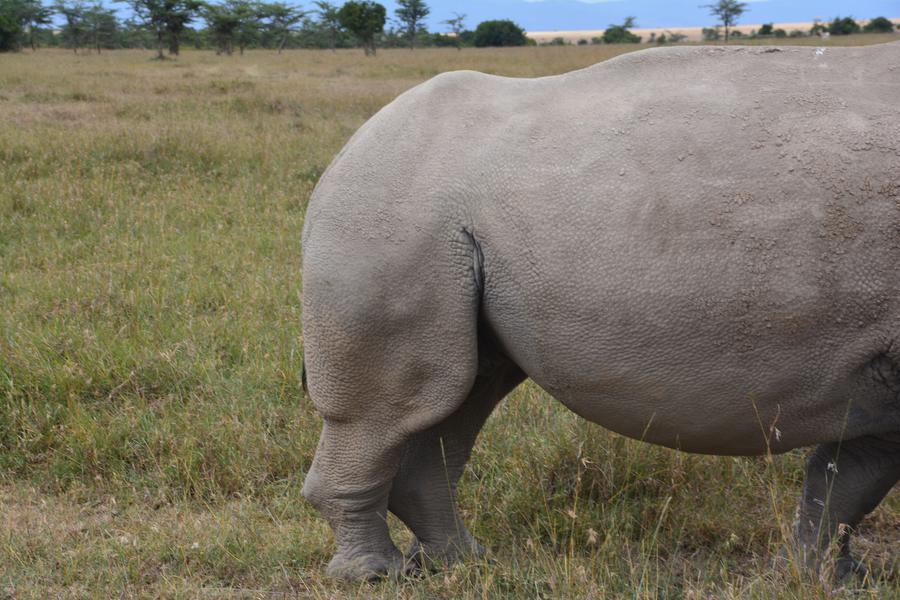rhino: (310, 26, 870, 541)
